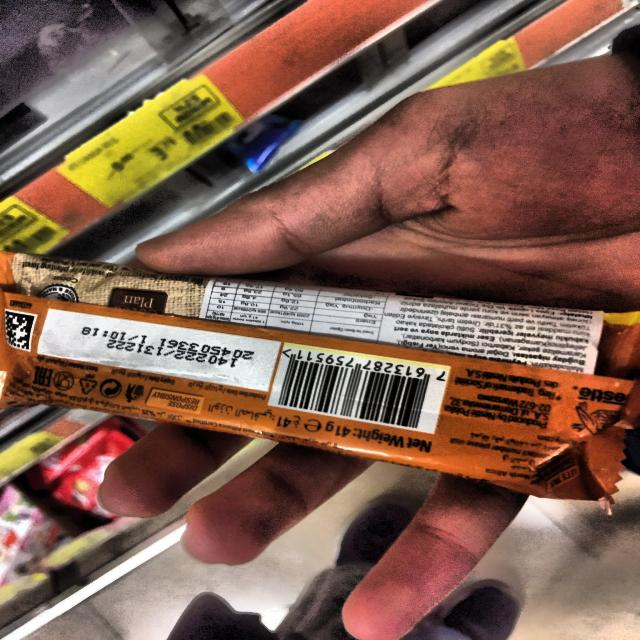Plastic: (0, 252, 636, 500)
